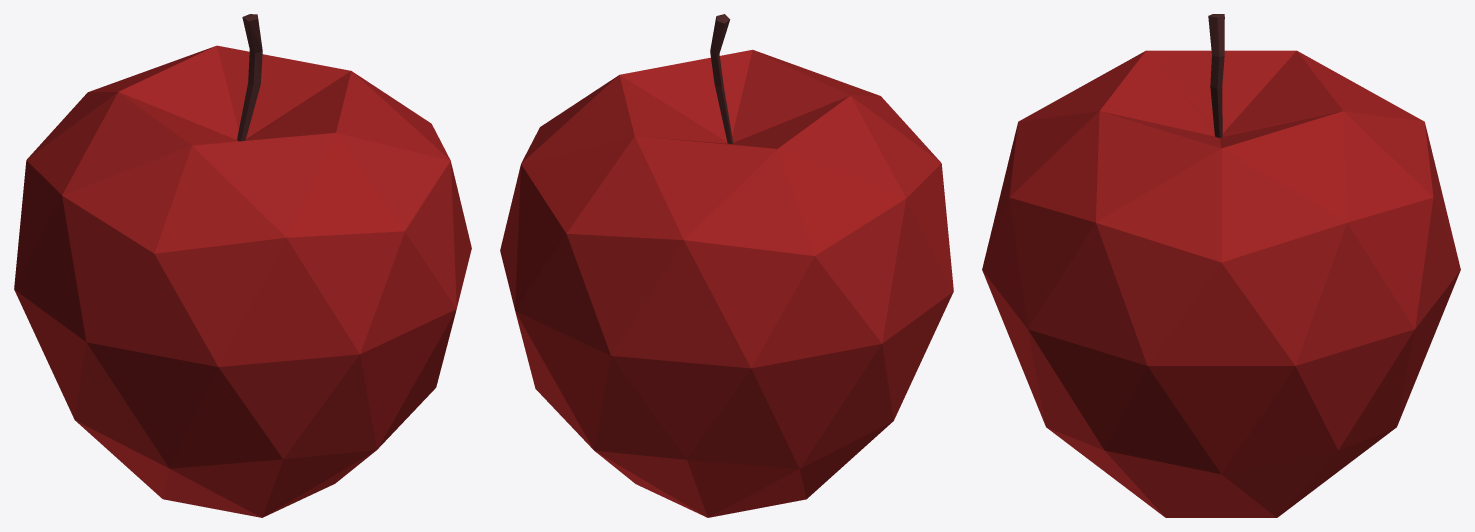
Rendered from Mela.fbx.
3 views of the same model, side by side, from view 1: azimuth 30°, elevation 25°; view 2: azimuth 150°, elevation 25°; view 3: azimuth 270°, elevation 25° (orthographic). The views are drawn at different scales.
Visible parts, largest first — view 1: Icosphere.001; view 2: Icosphere.001; view 3: Icosphere.001.
Boxes of the visible parts, x1,y1,x2,y2 form: Icosphere.001: [14, 14, 471, 517]; Icosphere.001: [500, 14, 953, 517]; Icosphere.001: [982, 14, 1460, 517].
Bounding box in the file's own units: 169 × 194 × 178.
